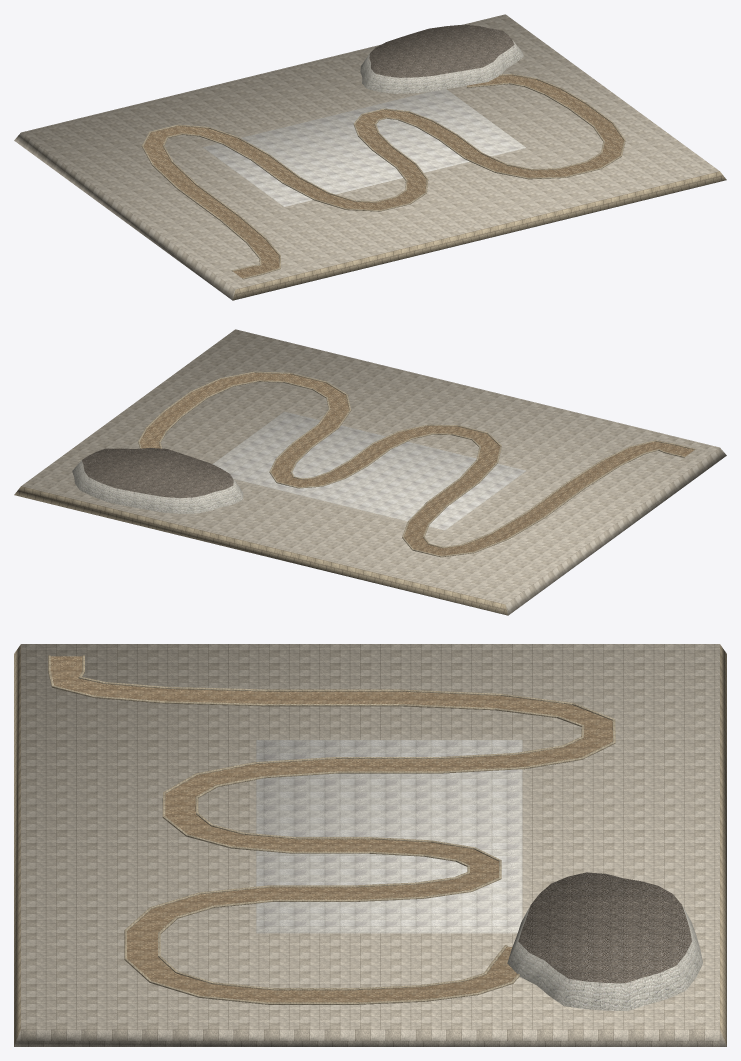
File: 02_AgoraAtenska_teren.glb
3 renders of one model, top to bottom at view 1: azimuth 30°, elevation 25°; view 2: azimuth 150°, elevation 25°; view 3: azimuth 270°, elevation 25°, orthographic. The views are drawn at different scales.
Parts seen in each view (by area): view 1: city, agora.001, path_0.001, acropolis; view 2: city, agora.001, path_0.001, acropolis; view 3: city, agora.001, path_0.001, acropolis.
Part boxes in pixels (left/top/right/bottom): city: left=14, top=14, right=726, bottom=300; agora.001: left=202, top=89, right=526, bottom=206; path_0.001: left=143, top=75, right=623, bottom=277; acropolis: left=360, top=24, right=523, bottom=93; city: left=14, top=329, right=726, bottom=615; agora.001: left=212, top=411, right=526, bottom=530; path_0.001: left=140, top=373, right=694, bottom=555; acropolis: left=72, top=448, right=243, bottom=513; city: left=14, top=644, right=726, bottom=1046; agora.001: left=256, top=740, right=522, bottom=933; path_0.001: left=50, top=656, right=612, bottom=1002; acropolis: left=507, top=872, right=702, bottom=1010.
Bounding box in the file's own units: 245 × 10 × 188.
6 materials, 6 textured.
